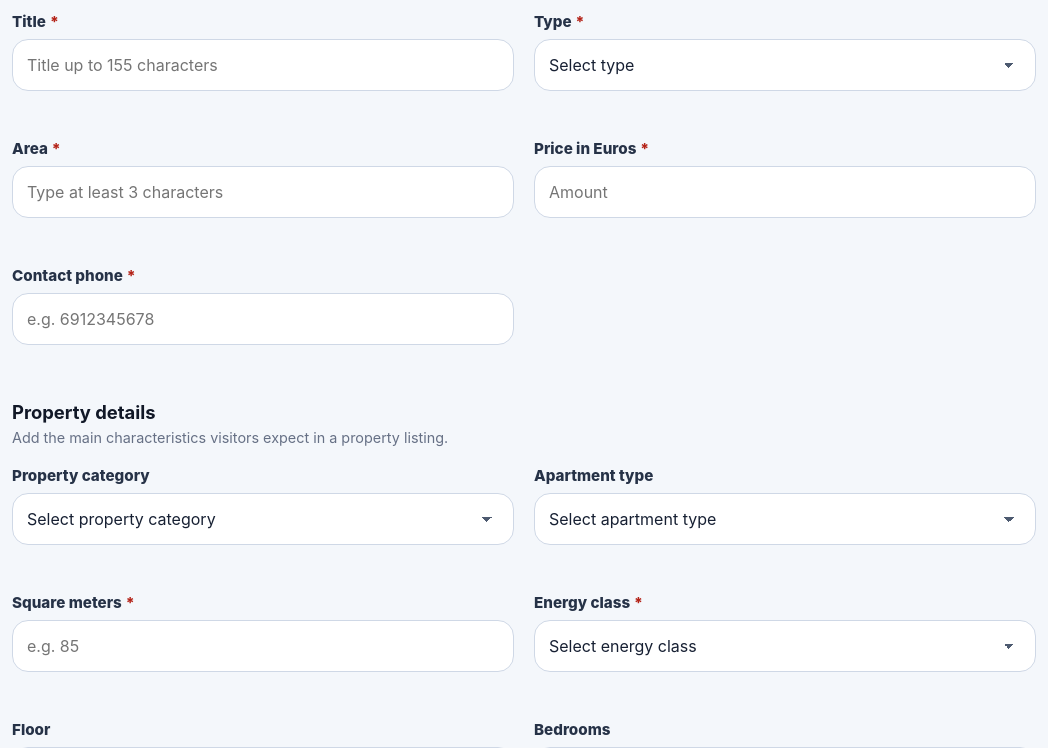
Test: PropertyAdForm › loads area suggestions and selects one
Type "ath" into the dropdown labelled "Area*" at [263, 192], box [12, 166, 514, 218]
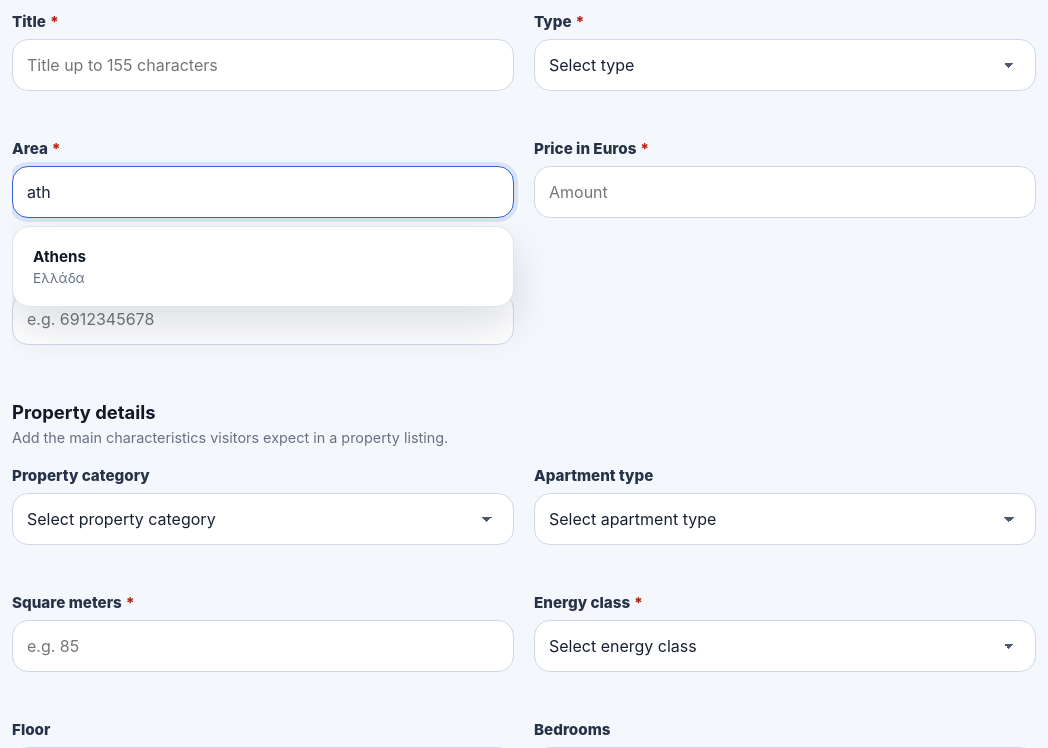
Expected: the text "Athens" is shown, [33, 247, 86, 266]
Click the button "Athens Ελλάδα" at [60, 256], box [21, 235, 505, 298]
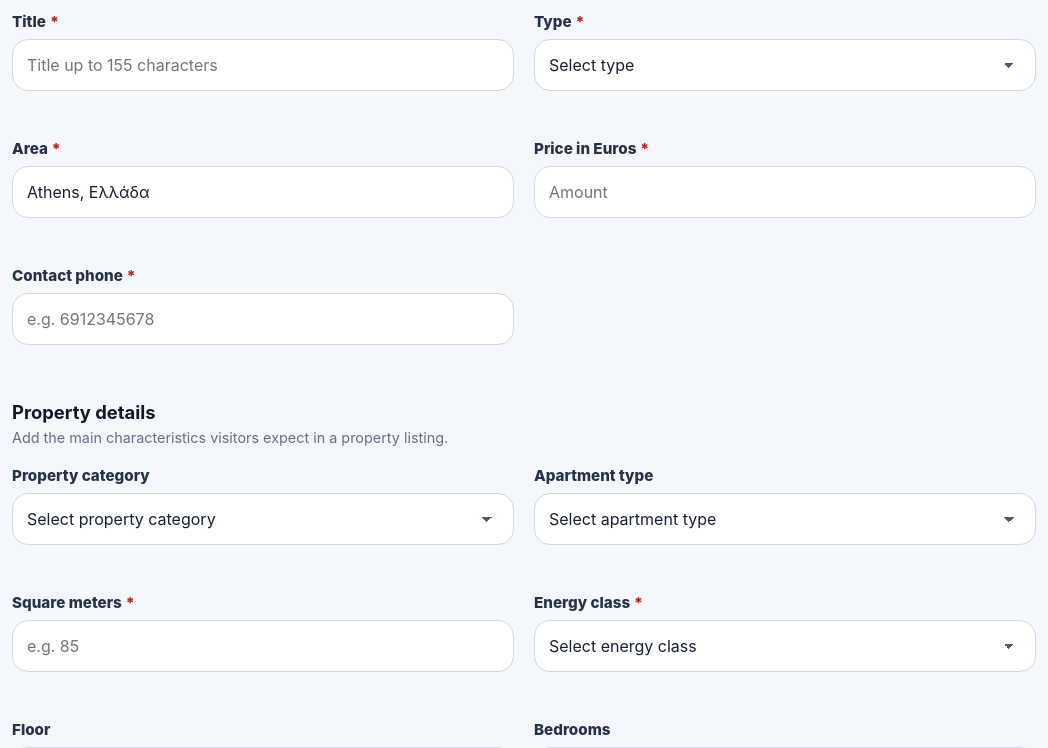
Expected: the dropdown labelled "Area*" holds "Athens, Ελλάδα", [12, 166, 514, 218]
